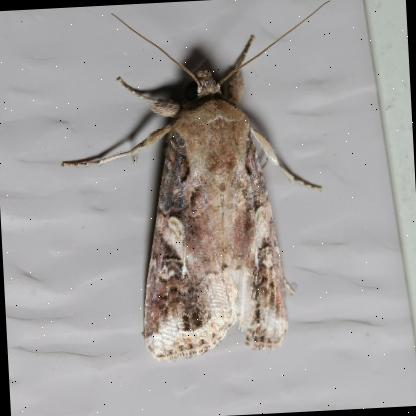Fall Armyworm Moth: (49, 0, 351, 372)
